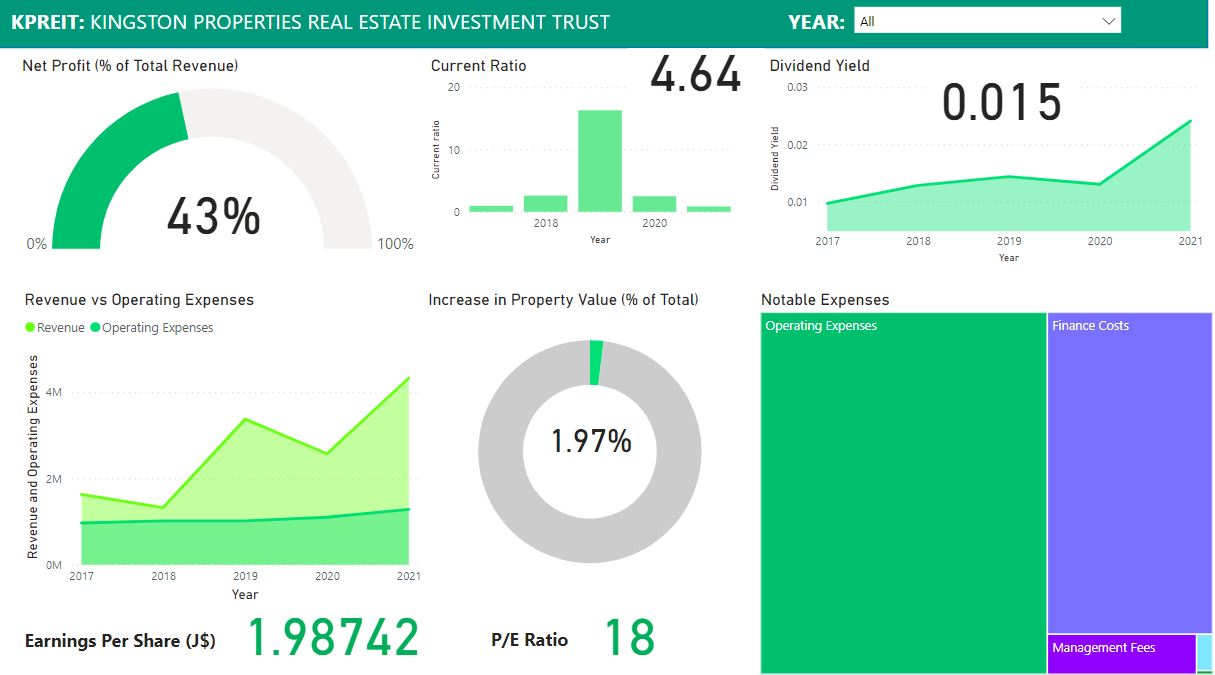

The page's visual inventory and layout, read from the dashboard file:
{"tool":"powerbi","page":{"name":"Page 1","canvas":[1280,720],"ordinal":0},"visuals":[{"type":"shape","box":[0,0,1270.4,53.6],"z":0},{"type":"textbox","box":[11,5.5,723.8,43.9],"z":1000},{"type":"textbox","box":[825.4,5.5,127.7,41.2],"z":2000},{"type":"gauge","title":"Net Profit (% of Total Revenue)","fields":{"Y":["Avg(Sheet1.Net Profit/Total Revenue)"],"MinValue":["Sheet1.min_np/tr"],"MaxValue":["Sheet1.max_np/tr"]},"box":[22,61.8,425.8,222.5],"z":3000},{"type":"areaChart","title":"Dividend Yield","fields":{"Category":["Sheet1 (2).Year","Sheet1 (2).Dividend Yield"],"Y":["Sum(Sheet1 (2).Dividend Yield)"]},"box":[806.2,61.8,464.2,222.5],"z":4000},{"type":"clusteredColumnChart","title":"Current Ratio","fields":{"Category":["Sheet1.Year","Sheet1.Current ratio"],"Y":["Sum(Sheet1.Current ratio)"]},"box":[450.5,61.8,324.1,203.3],"z":5000},{"type":"areaChart","title":"Revenue vs Operating Expenses","fields":{"Category":["Sheet1 (2).Year"],"Y":["Sum(Sheet1 (2).Revenue)","Sum(Sheet1 (2).Operating Expenses)"]},"box":[24.7,306.3,425.8,332.4],"z":6000},{"type":"treemap","title":"Notable Expenses","fields":{"Values":["Sum(Sheet1.Management Fees)","Sum(Sheet1.Loss on disposal of furniture and equipment)","Sum(Sheet1.Investment Fee)","Sum(Sheet1.Finance Costs)","Sum(Sheet1.Operating Expenses)"]},"box":[796.6,306.3,483.4,407.9],"z":7000},{"type":"donutChart","title":"Increase in Property Value (% of Total)","fields":{"Y":["Sheet1.abs_ipv","Sheet1.Other Value"]},"box":[447.7,306.3,348.8,321.4],"z":8000},{"type":"card","fields":{"Values":["Avg(Sheet1.Dividend Yield)"]},"box":[976.5,85.2,157.9,57.7],"z":9000},{"type":"card","fields":{"Values":["Avg(Sheet1.Current ratio)"]},"box":[662,53.6,144.2,60.4],"z":10000},{"type":"slicer","fields":{"Values":["Sheet1.Year"]},"box":[890,0,299.4,53.6],"z":11000},{"type":"card","fields":{"Values":["Sheet1.np/tr"]},"box":[142.8,201.9,171.7,63.2],"z":12000},{"type":"textbox","box":[24.7,656.5,232.1,50.8],"z":13000},{"type":"card","fields":{"Values":["Sum(Sheet1.Earnings per stck unit (adj.) (adj.))"]},"box":[229.4,640,245.8,67.3],"z":14000},{"type":"textbox","box":[513.6,655.1,108.5,33],"z":15000},{"type":"card","fields":{"Values":["Sheet1.P/E Ratio"]},"box":[601.5,641.4,122.2,65.9],"z":16000},{"type":"card","fields":{"Values":["Sheet1.ipv"]},"box":[563.1,446.4,119.5,52.2],"z":17000}]}

Visuals, with their boxes in screenshot pixels (x1, y1, x2, y2), scaled from the page's 1280x720 canvas onto the 1215x675 screenshot:
shape: bbox=(0, 0, 1206, 50)
textbox: bbox=(10, 5, 697, 46)
textbox: bbox=(783, 5, 905, 44)
"Net Profit (% of Total Revenue)" gauge: bbox=(21, 58, 425, 267)
"Dividend Yield" areaChart: bbox=(765, 58, 1206, 267)
"Current Ratio" clusteredColumnChart: bbox=(428, 58, 735, 249)
"Revenue vs Operating Expenses" areaChart: bbox=(23, 287, 428, 599)
"Notable Expenses" treemap: bbox=(756, 287, 1214, 670)
"Increase in Property Value (% of Total)" donutChart: bbox=(425, 287, 756, 588)
card - Avg(Sheet1.Dividend Yield): bbox=(927, 80, 1077, 134)
card - Avg(Sheet1.Current ratio): bbox=(628, 50, 765, 107)
slicer - Sheet1.Year: bbox=(845, 0, 1129, 50)
card - Sheet1.np/tr: bbox=(136, 189, 299, 249)
textbox: bbox=(23, 615, 244, 663)
card - Sum(Sheet1.Earnings per stck unit (adj.) (adj.)): bbox=(218, 600, 451, 663)
textbox: bbox=(488, 614, 591, 645)
card - Sheet1.P/E Ratio: bbox=(571, 601, 687, 663)
card - Sheet1.ipv: bbox=(535, 418, 648, 467)
